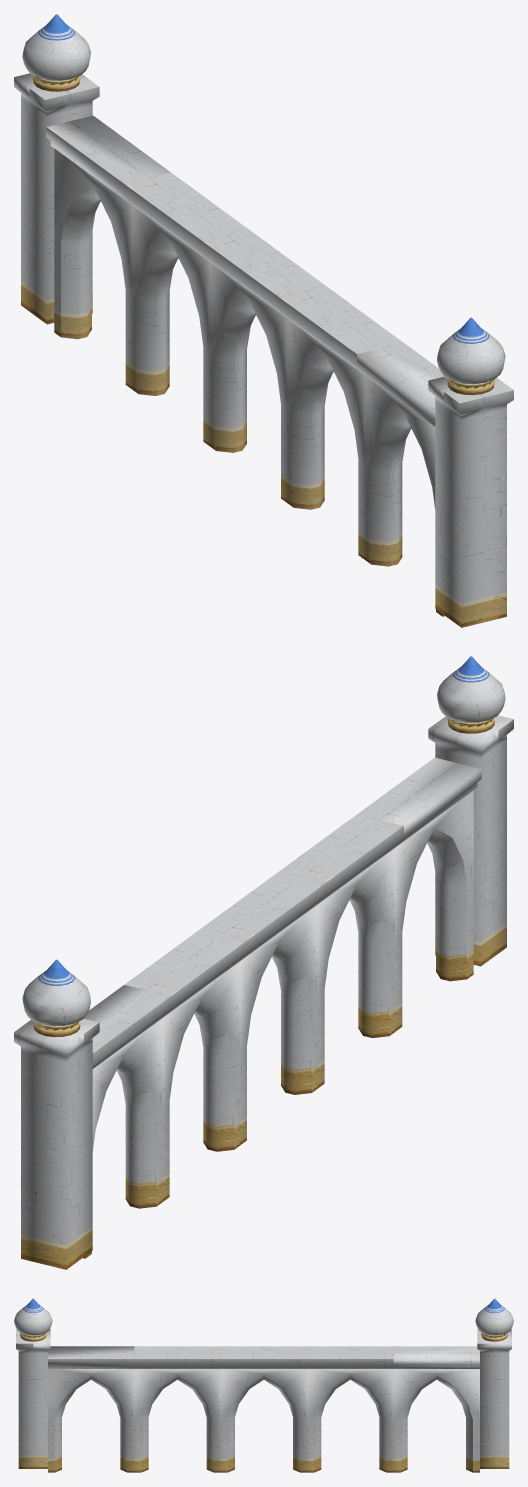
Rendered from sf_set_arcade.glb.
3 renders of one model, top to bottom at view 1: azimuth 30°, elevation 25°; view 2: azimuth 150°, elevation 25°; view 3: azimuth 270°, elevation 25°, orthographic. The views are drawn at different scales.
Parts seen in each view (by area): view 1: sf_set_arcade; view 2: sf_set_arcade; view 3: sf_set_arcade.
Part boxes in pixels (x1,y1,x2,y2): sf_set_arcade: [14, 14, 513, 627]; sf_set_arcade: [14, 656, 513, 1269]; sf_set_arcade: [14, 1298, 513, 1472].
Size of the model in its own units: 1.34 by 6.49 by 17.34.
Materials: 1 (1 with a texture image).
